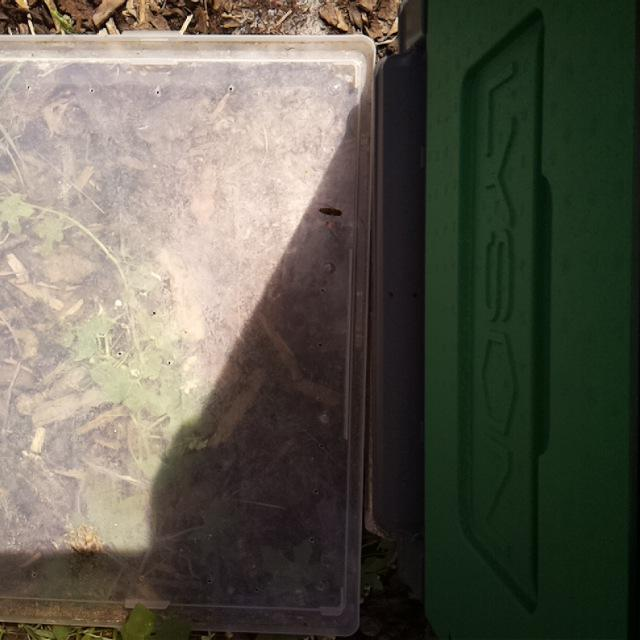worker-bee: (312, 201, 348, 229)
